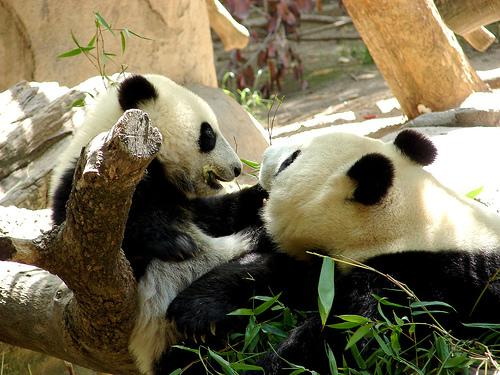panda: (51, 75, 500, 375)
